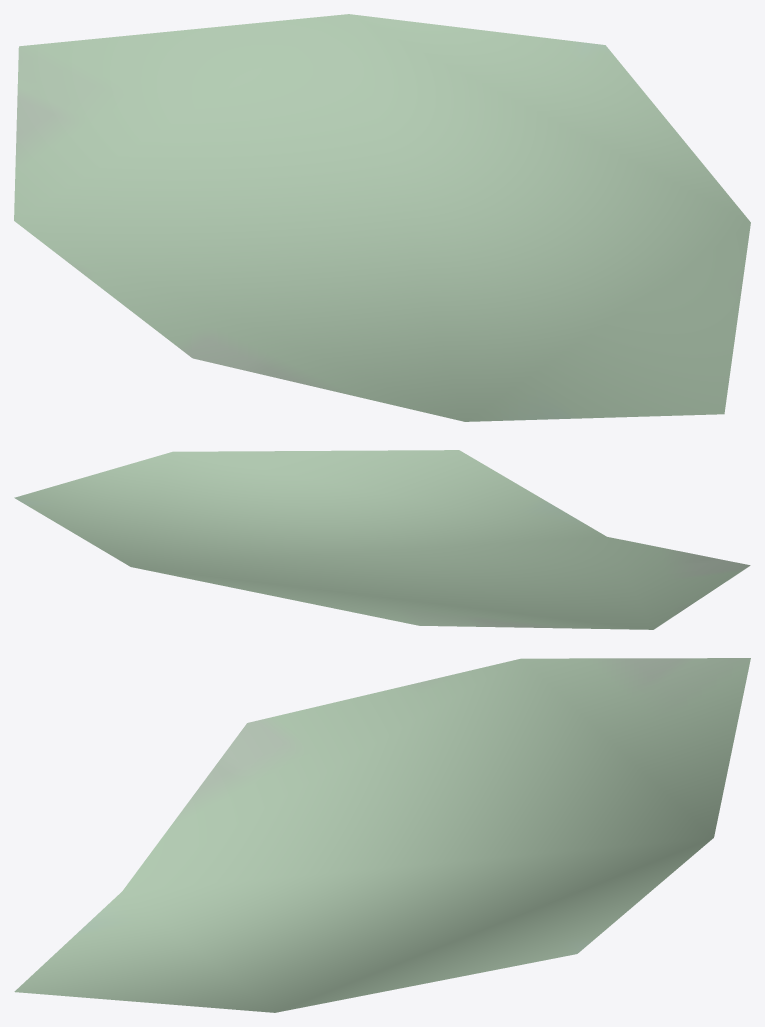
Rendered from TROLLHOLE02_HOLECAP200.fbx.
The picture shows the model from 3 angles, top to bottom: view 1: azimuth 30°, elevation 25°; view 2: azimuth 150°, elevation 25°; view 3: azimuth 270°, elevation 25°; orthographic projection.
Parts seen in each view (by area): view 1: TROLLHOLE02_HOLECAP200; view 2: TROLLHOLE02_HOLECAP200; view 3: TROLLHOLE02_HOLECAP200.
Part boxes in pixels (x1=…): TROLLHOLE02_HOLECAP200: x1=14, y1=14, x2=750, y2=421; TROLLHOLE02_HOLECAP200: x1=14, y1=450, x2=750, y2=629; TROLLHOLE02_HOLECAP200: x1=14, y1=658, x2=750, y2=1012.
Bounding box in the file's own units: 10963 × 2973 × 11425.
1 material, 1 textured.
